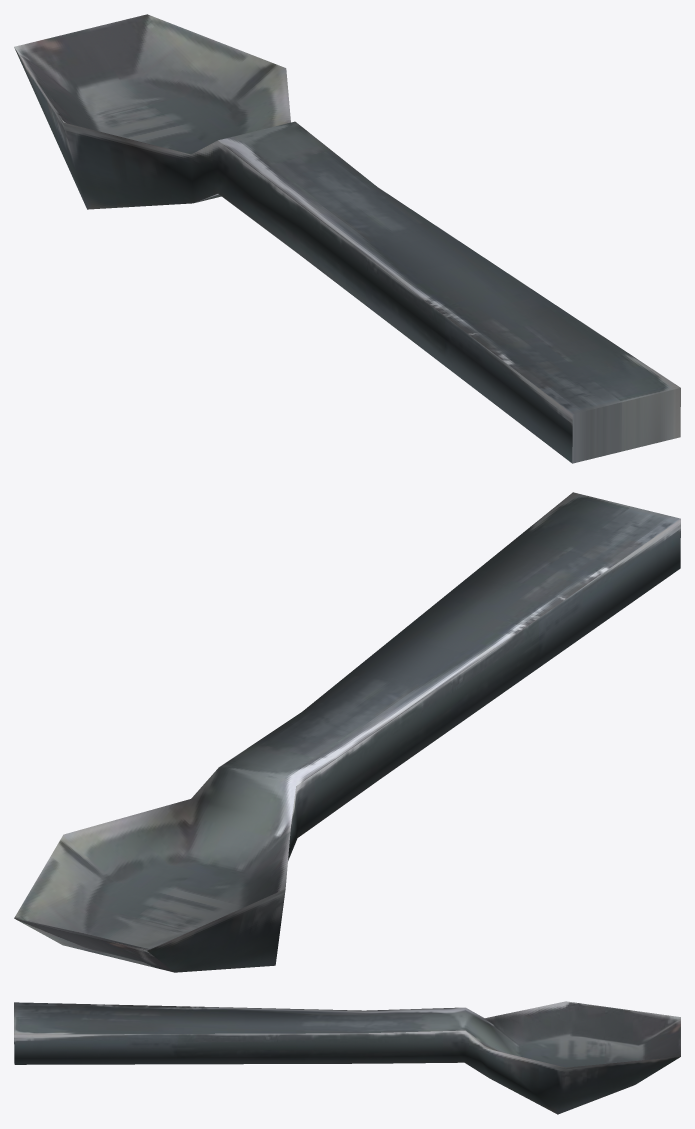
Rendered from Spoon_01.glb.
3 renders of one model, top to bottom at view 1: azimuth 30°, elevation 25°; view 2: azimuth 150°, elevation 25°; view 3: azimuth 270°, elevation 25°, orthographic. The views are drawn at different scales.
Visible parts, largest first — view 1: Spoon_01; view 2: Spoon_01; view 3: Spoon_01.
Boxes of the visible parts, left/top/right/bottom form: Spoon_01: left=14, top=14, right=680, bottom=463; Spoon_01: left=14, top=492, right=680, bottom=972; Spoon_01: left=14, top=1001, right=680, bottom=1114.
Size of the model in its own units: 0.2628 by 0.1263 by 1.12.
Materials: 1 (1 with a texture image).
